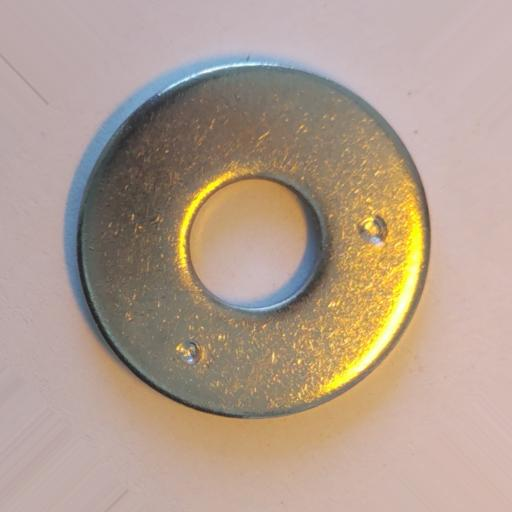circular_cavity: (357, 213, 388, 244), (175, 339, 204, 365)
